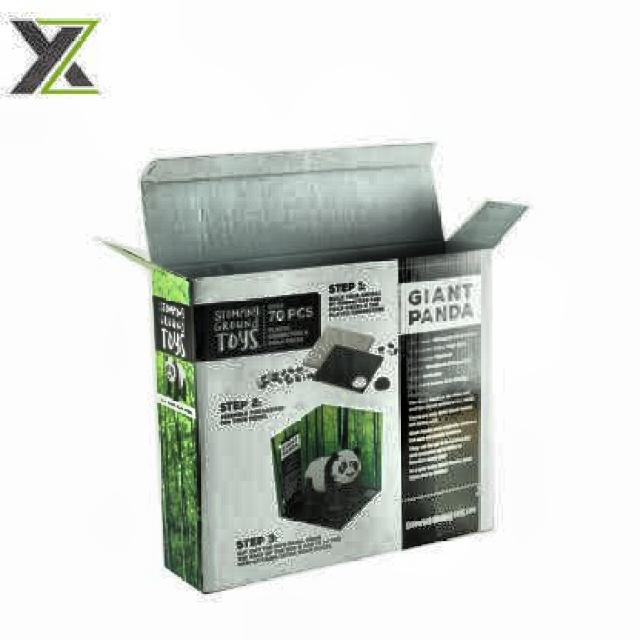Cardbox: (90, 133, 538, 580)
